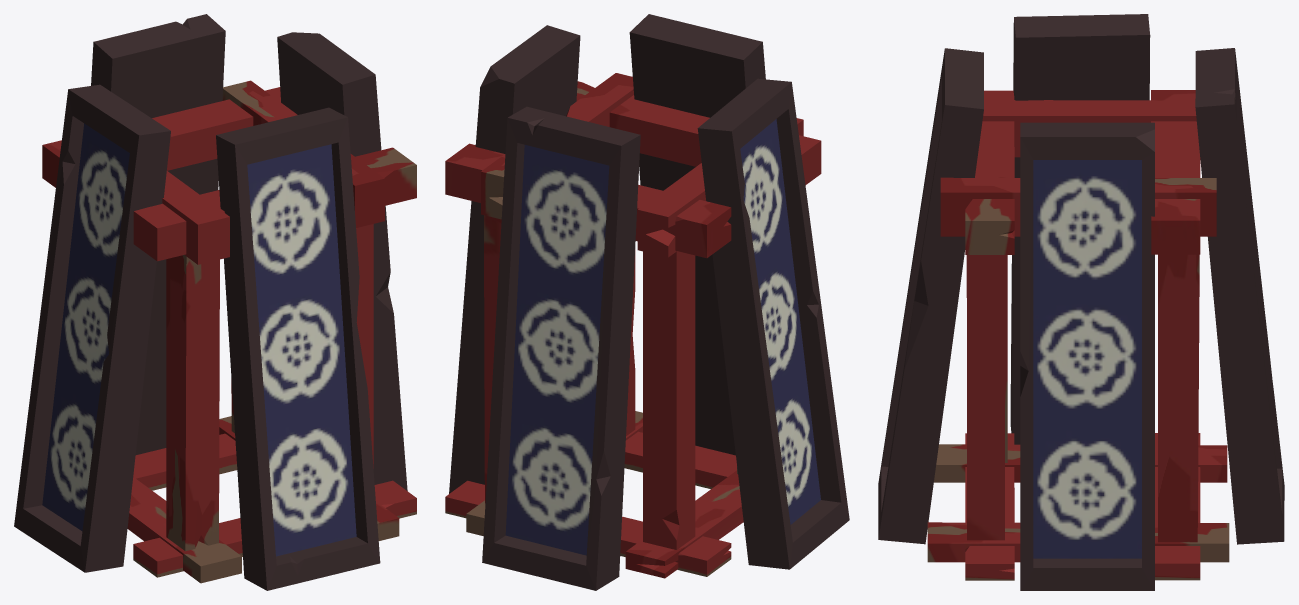
File: samurai_SM_Prop_Holder_02.gltf
The picture shows the model from 3 angles, left to right: view 1: azimuth 30°, elevation 25°; view 2: azimuth 150°, elevation 25°; view 3: azimuth 270°, elevation 25°; orthographic projection. The views are drawn at different scales.
Parts seen in each view (by area): view 1: SM_Prop_Holder_02; view 2: SM_Prop_Holder_02; view 3: SM_Prop_Holder_02.
Boxes of the visible parts, x1,y1,x2,y2 form: SM_Prop_Holder_02: [14, 14, 416, 590]; SM_Prop_Holder_02: [445, 14, 849, 590]; SM_Prop_Holder_02: [878, 14, 1284, 590].
Bounding box in the file's own units: 0.8835 × 1.08 × 0.9058.
1 material, 1 textured.
